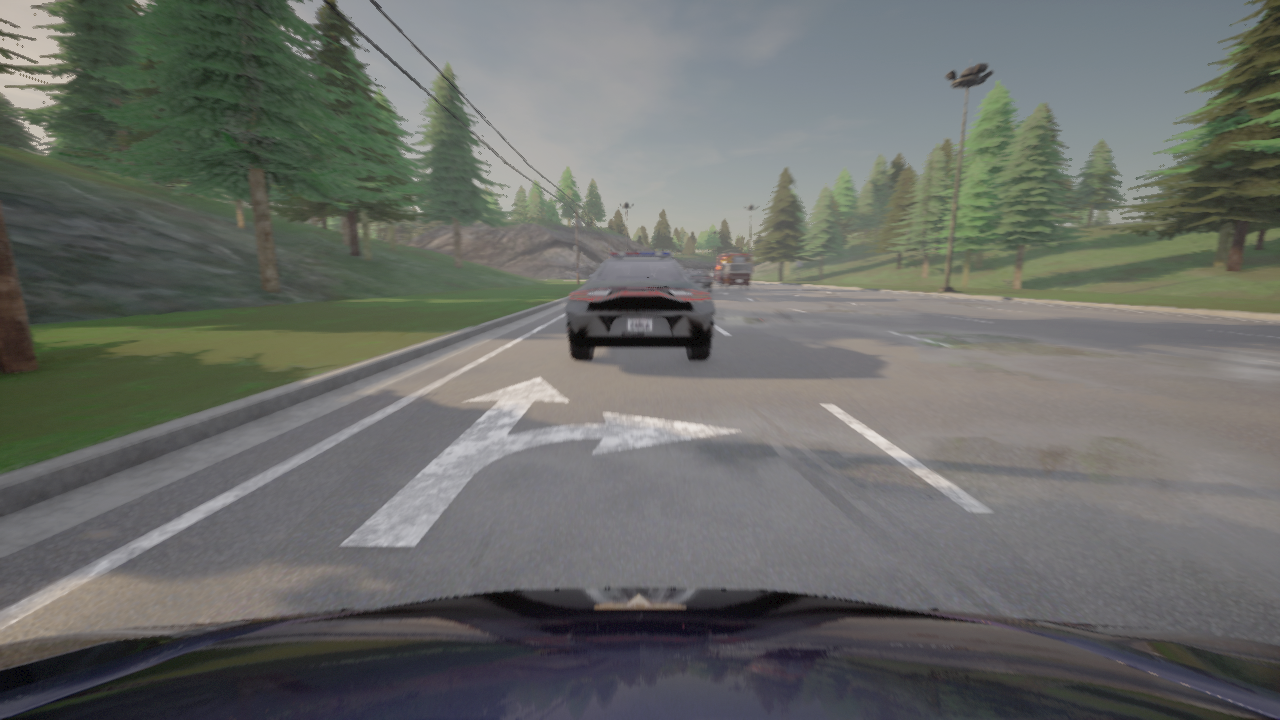cyclist: (0, 588, 1279, 719), (565, 252, 714, 359), (713, 249, 751, 283), (718, 263, 750, 290), (684, 269, 712, 293)
